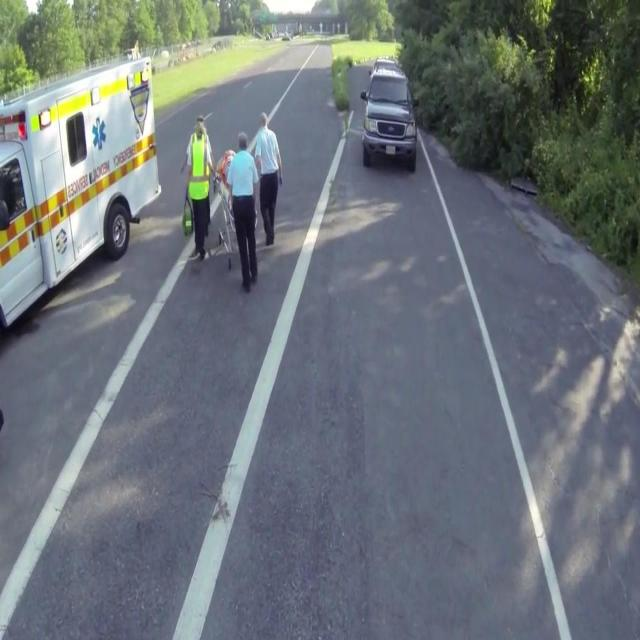Reflective-Jacket: (186, 130, 212, 202)
